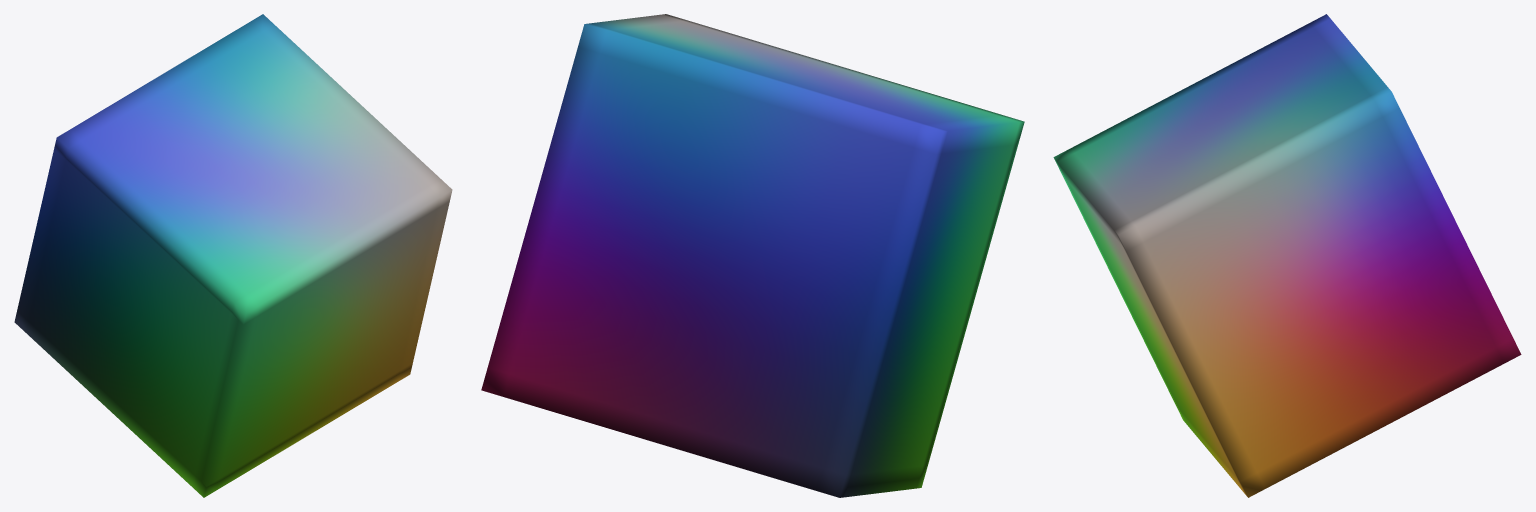
File: SM_BakedMesh.DATA.fbx
3 views of the same model, side by side, from view 1: azimuth 30°, elevation 25°; view 2: azimuth 150°, elevation 25°; view 3: azimuth 270°, elevation 25° (orthographic). The views are drawn at different scales.
Visible parts, largest first — view 1: BakedMesh.DATA; view 2: BakedMesh.DATA; view 3: BakedMesh.DATA.
Part boxes in pixels (bbox=[...]): BakedMesh.DATA: bbox=[14, 14, 452, 497]; BakedMesh.DATA: bbox=[481, 14, 1024, 497]; BakedMesh.DATA: bbox=[1053, 14, 1521, 497].
Bounding box in the file's own units: 259 × 293 × 303.
